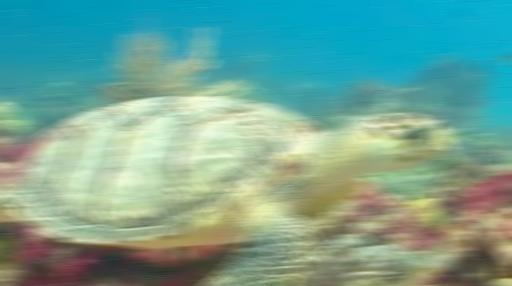Fish: (0, 96, 453, 285)
